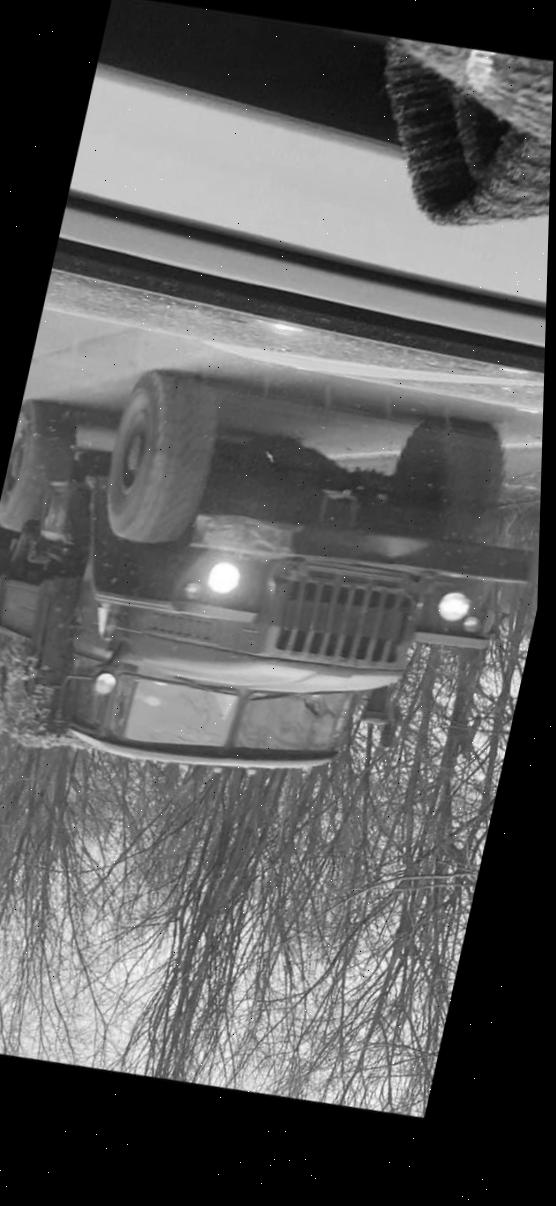truck: (0, 325, 546, 850)
